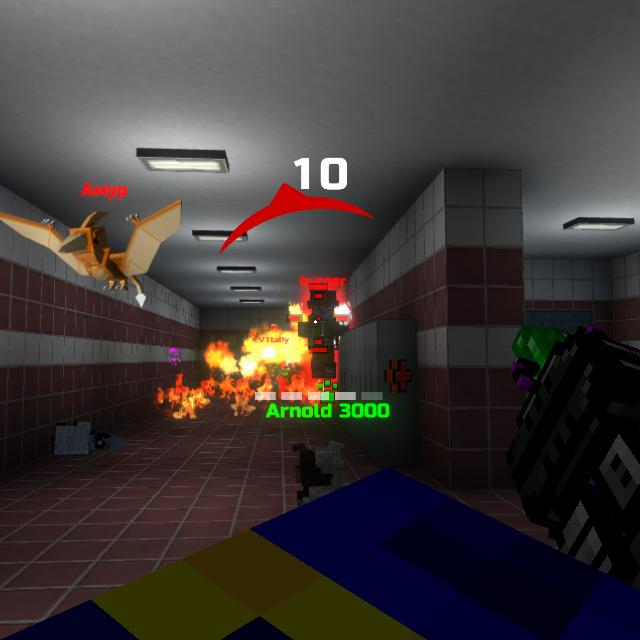Enemy: (300, 291, 352, 390)
